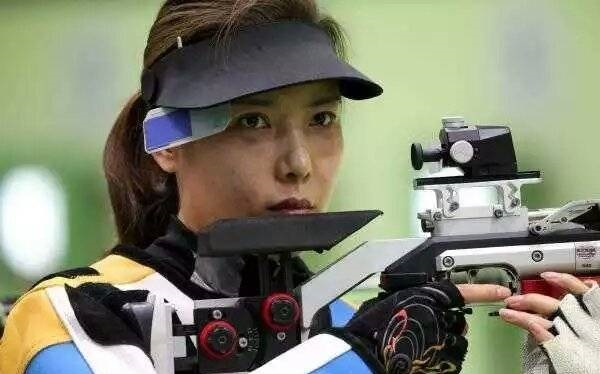face: (213, 63, 348, 249)
